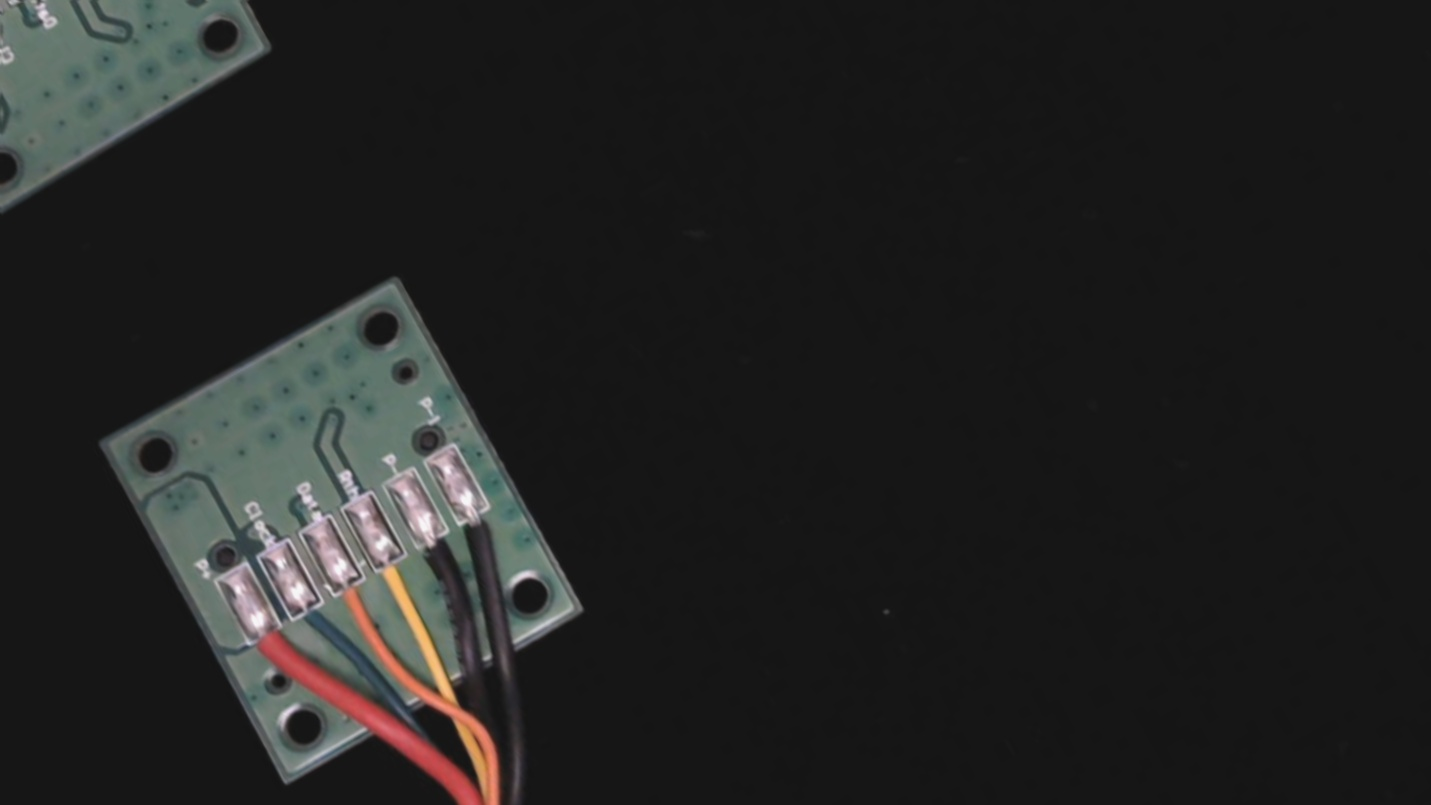Black: (402, 517, 475, 599)
Black1: (445, 492, 518, 572)
Green: (278, 585, 351, 661)
Orange: (320, 561, 392, 640)
Red: (234, 611, 310, 691)
Yellow: (360, 539, 437, 624)
